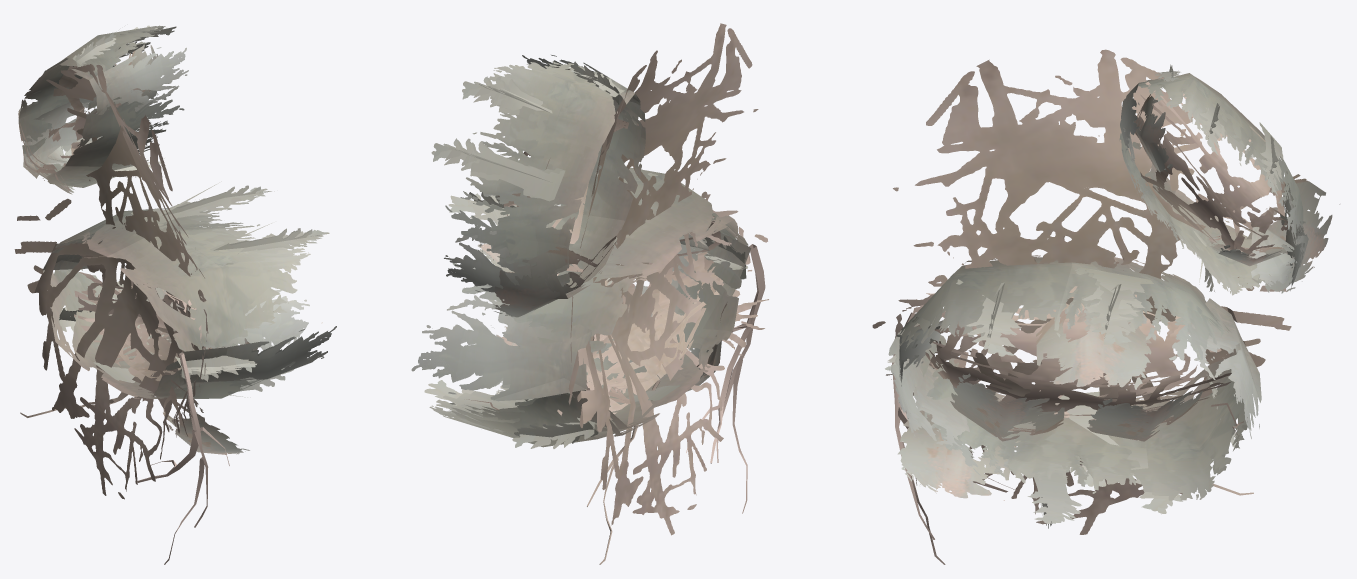
File: props_foliage_shrub_03_cluster.glb
3 views of the same model, side by side, from view 1: azimuth 30°, elevation 25°; view 2: azimuth 150°, elevation 25°; view 3: azimuth 270°, elevation 25° (orthographic). The views are drawn at different scales.
Visible parts, largest first — view 1: models/props_foliage/shrub_03_cluster; view 2: models/props_foliage/shrub_03_cluster; view 3: models/props_foliage/shrub_03_cluster.
Boxes of the visible parts, <box> form: models/props_foliage/shrub_03_cluster: <box>14,25,336,564</box>; models/props_foliage/shrub_03_cluster: <box>411,23,768,564</box>; models/props_foliage/shrub_03_cluster: <box>872,49,1339,564</box>.
Bounding box in the file's own units: 57.52 × 125 × 106.
1 material, 1 textured.
